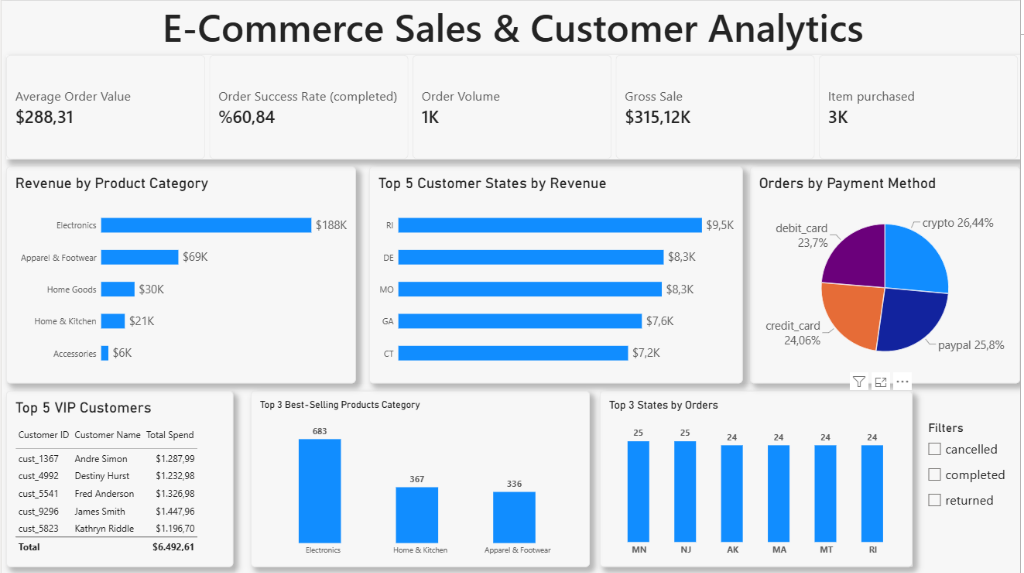

What the dashboard file says about the page in this screenshot:
{"tool":"powerbi","page":{"name":"Page 1","canvas":[1920,1080],"ordinal":0},"visuals":[{"type":"cardVisual","fields":{"Data":["_Measures._AOV","_Measures._Completion Rate","_Measures._Total Orders","_Measures._Total Revenue","_Measures._Total Units Sold"]},"box":[9.3,102.4,1910.7,197],"z":0},{"type":"textbox","box":[9.3,0,1910.7,102.4],"z":1000},{"type":"clusteredBarChart","title":"Revenue by Product Category","fields":{"Category":["dim_products.product_category"],"Y":["_Measures._Total Revenue"]},"box":[9.3,311.7,659.1,409.4],"z":2000},{"type":"clusteredBarChart","title":"Top 5 Customer States by Revenue","fields":{"Category":["dim_customers.customer_state"],"Y":["_Measures._Total Revenue"]},"box":[693.2,311.7,704.1,409.4],"z":3000},{"type":"pieChart","title":"Orders by Payment Method","fields":{"Category":["fct_orders.payment_method"],"Y":["_Measures._Total Orders"]},"box":[1411.3,311.7,508.7,409.4],"z":4000},{"type":"tableEx","title":"Top 5 VIP Customers","fields":{"Values":["dim_customers.customer_id","dim_customers.customer_name","_Measures._Total Revenue"]},"box":[9.3,735.1,428,331.9],"z":5000},{"type":"columnChart","title":"Top 3 Best-Selling Products Category","fields":{"Y":["_Measures._Total Units Sold"],"Category":["dim_products.product_category"]},"box":[469.9,735.1,639,331.9],"z":6000},{"type":"slicer","fields":{"Values":["fct_orders.order_status"]},"box":[1738.5,792.5,181.5,179.9],"z":7000},{"type":"columnChart","title":"Top 3 States by Orders","fields":{"Category":["dim_customers.customer_state"],"Y":["_Measures._Total Orders"]},"box":[1127.5,735.1,589.3,331.9],"z":8000}]}

Visuals, with their boxes in screenshot pixels (x1, y1, x2, y2), scaled from the page's 1920x1080 canvas onto the 1024x573 screenshot:
cardVisual - _Measures._AOV x _Measures._Completion Rate: bbox(5, 54, 1023, 159)
textbox: bbox(5, 0, 1023, 54)
"Revenue by Product Category" clusteredBarChart: bbox(5, 165, 356, 383)
"Top 5 Customer States by Revenue" clusteredBarChart: bbox(370, 165, 745, 383)
"Orders by Payment Method" pieChart: bbox(753, 165, 1023, 383)
"Top 5 VIP Customers" tableEx: bbox(5, 390, 233, 566)
"Top 3 Best-Selling Products Category" columnChart: bbox(251, 390, 591, 566)
slicer - fct_orders.order_status: bbox(927, 420, 1023, 516)
"Top 3 States by Orders" columnChart: bbox(601, 390, 916, 566)
